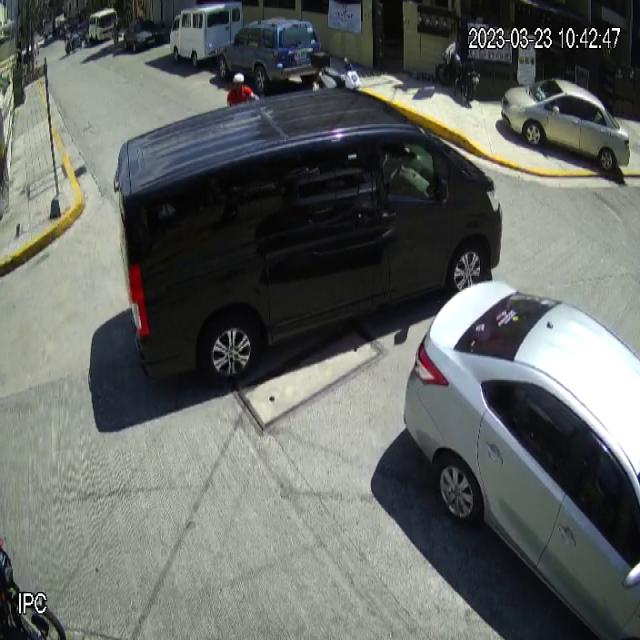Car: (401, 282, 640, 640), (501, 77, 631, 175)
Van: (112, 85, 508, 390), (169, 0, 245, 68)
